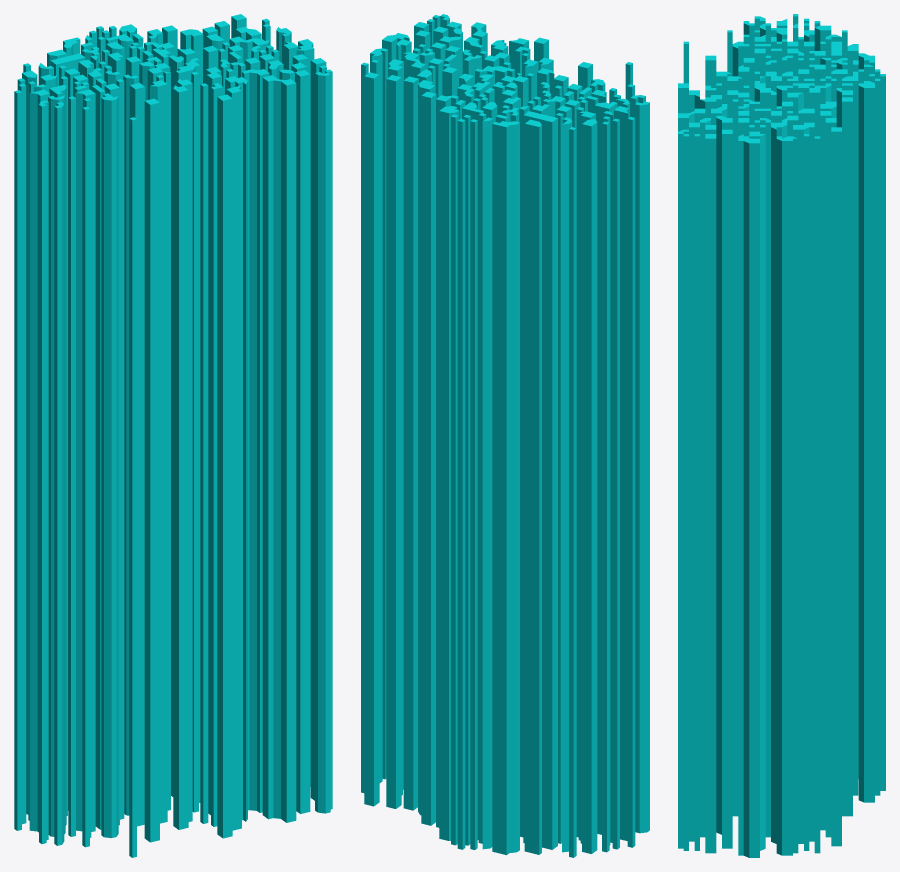
File: Obstacles_blocks_fbx.fbx
The picture shows the model from 3 angles, left to right: view 1: azimuth 30°, elevation 25°; view 2: azimuth 150°, elevation 25°; view 3: azimuth 270°, elevation 25°; orthographic projection. The views are drawn at different scales.
Parts seen in each view (by area): view 1: polySurface40; view 2: polySurface40; view 3: polySurface40.
Part boxes in pixels (bbox=[...]): polySurface40: bbox=[14, 14, 332, 857]; polySurface40: bbox=[361, 14, 649, 857]; polySurface40: bbox=[678, 14, 885, 857].
Size of the model in its own units: 56 by 144 by 38.
